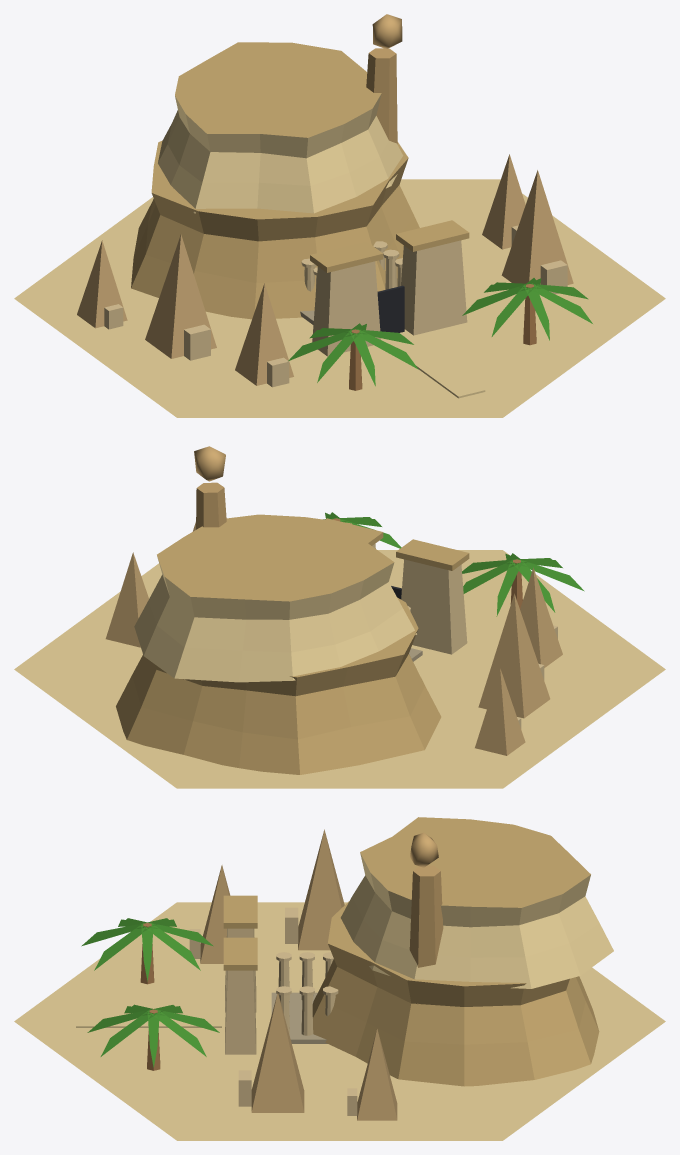
Rendered from wonder_jebel_barkal.fbx.
The picture shows the model from 3 angles, top to bottom: view 1: azimuth 30°, elevation 25°; view 2: azimuth 150°, elevation 25°; view 3: azimuth 270°, elevation 25°; orthographic projection.
Parts seen in each view (by area): view 1: wonder_jebel_barkal; view 2: wonder_jebel_barkal; view 3: wonder_jebel_barkal.
Part boxes in pixels (x1,y1,x2,y2): wonder_jebel_barkal: (14, 14, 665, 417); wonder_jebel_barkal: (14, 446, 665, 788); wonder_jebel_barkal: (14, 817, 665, 1140).
Size of the model in its own units: 182 by 83.1 by 210.
